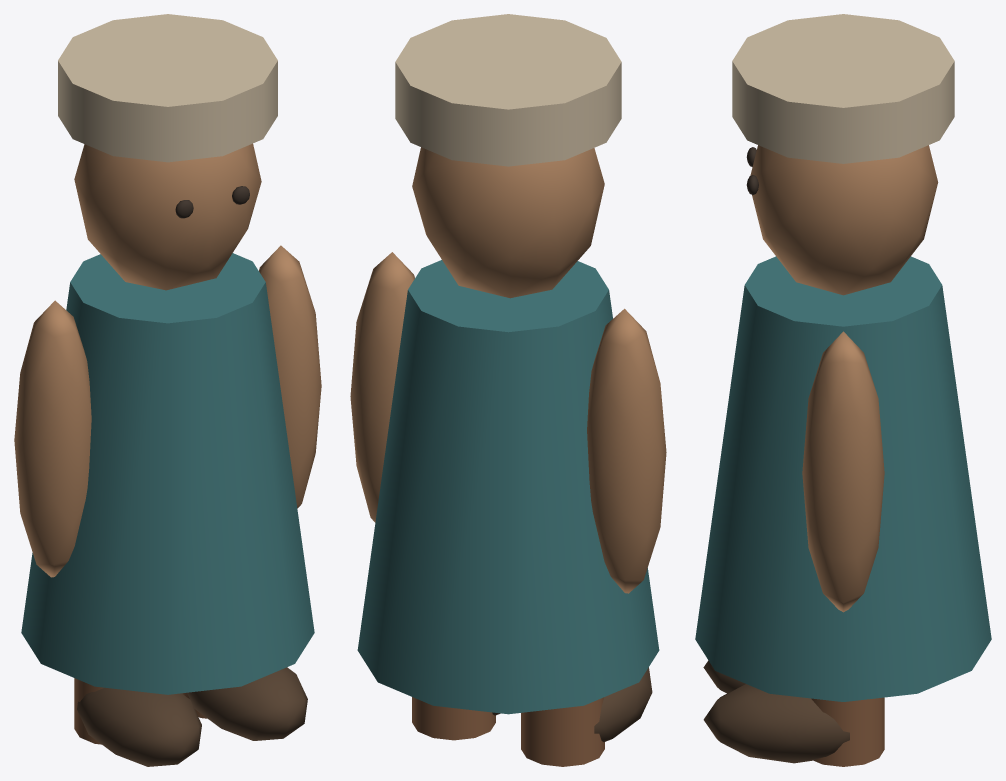
The model's file is resident-enki.glb.
3 renders of one model, left to right at view 1: azimuth 30°, elevation 25°; view 2: azimuth 150°, elevation 25°; view 3: azimuth 270°, elevation 25°, orthographic. The views are drawn at different scales.
Visible parts, largest first — view 1: resident-enki; view 2: resident-enki; view 3: resident-enki.
Part boxes in pixels (<box>): resident-enki: <box>14,14,321,766</box>; resident-enki: <box>350,14,666,766</box>; resident-enki: <box>695,14,991,766</box>.
Size of the model in its own units: 0.6048 by 1.29 by 0.5184.
